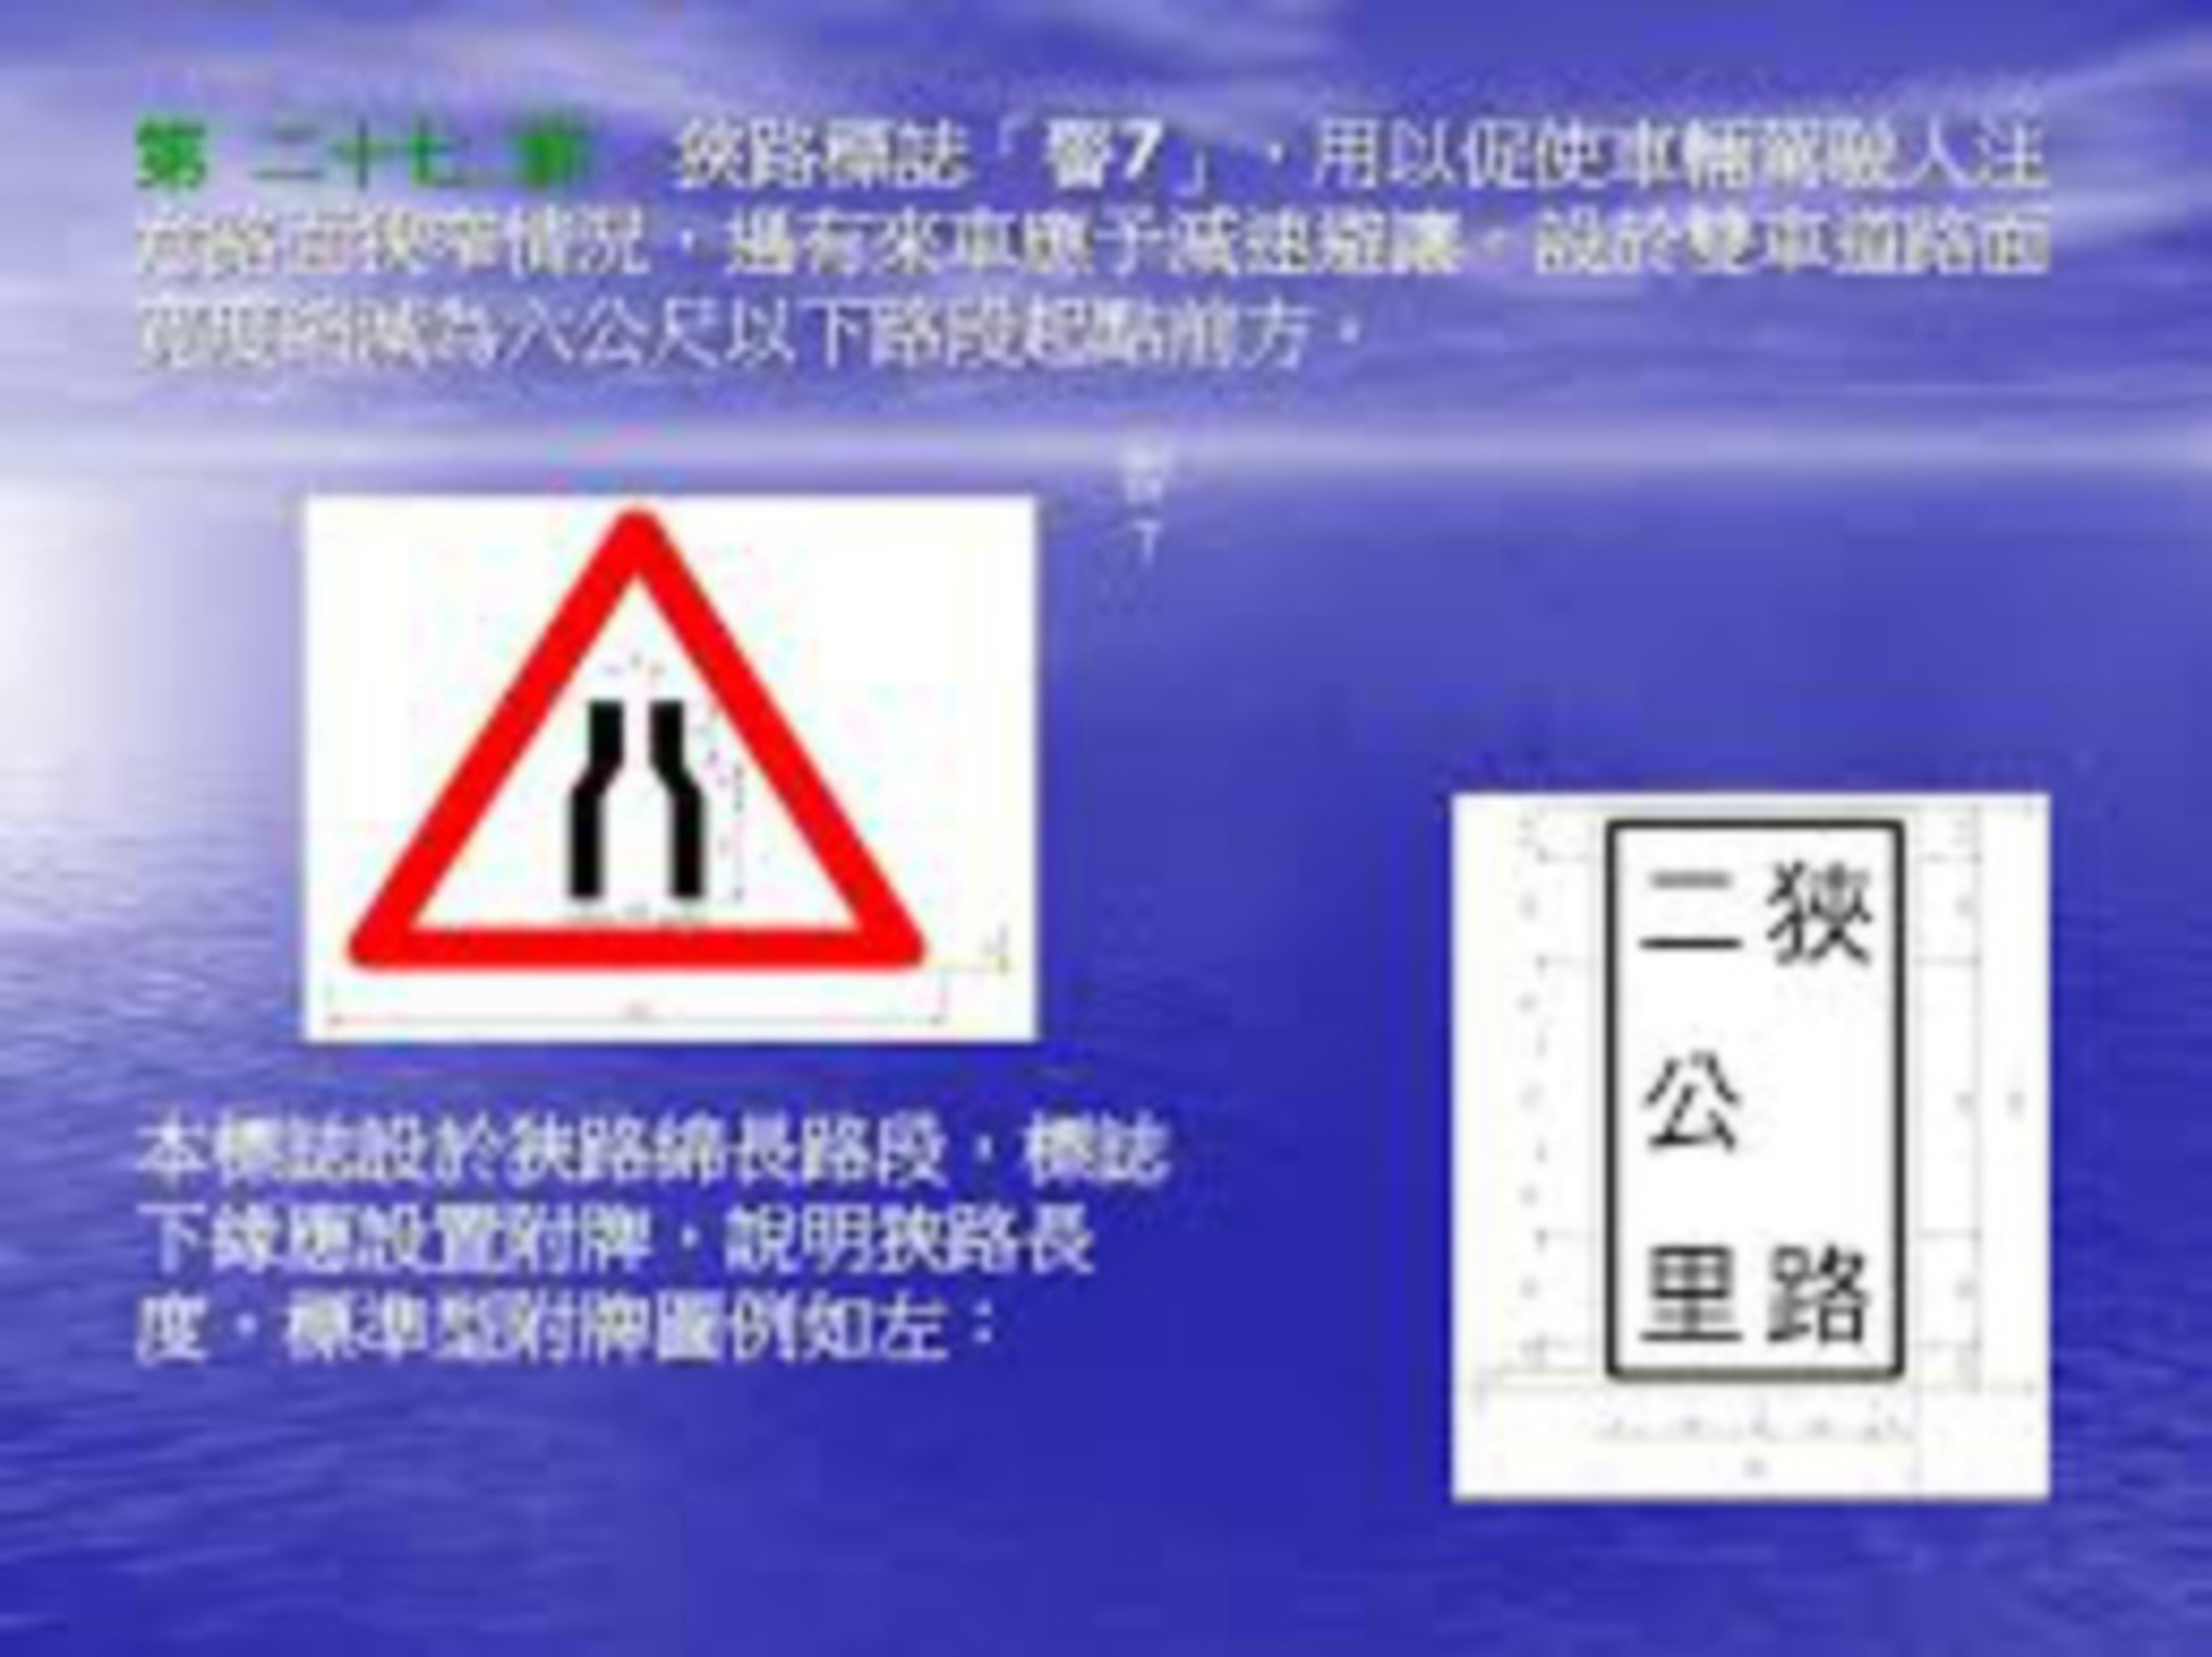Narrow_road: (322, 505, 955, 976)
